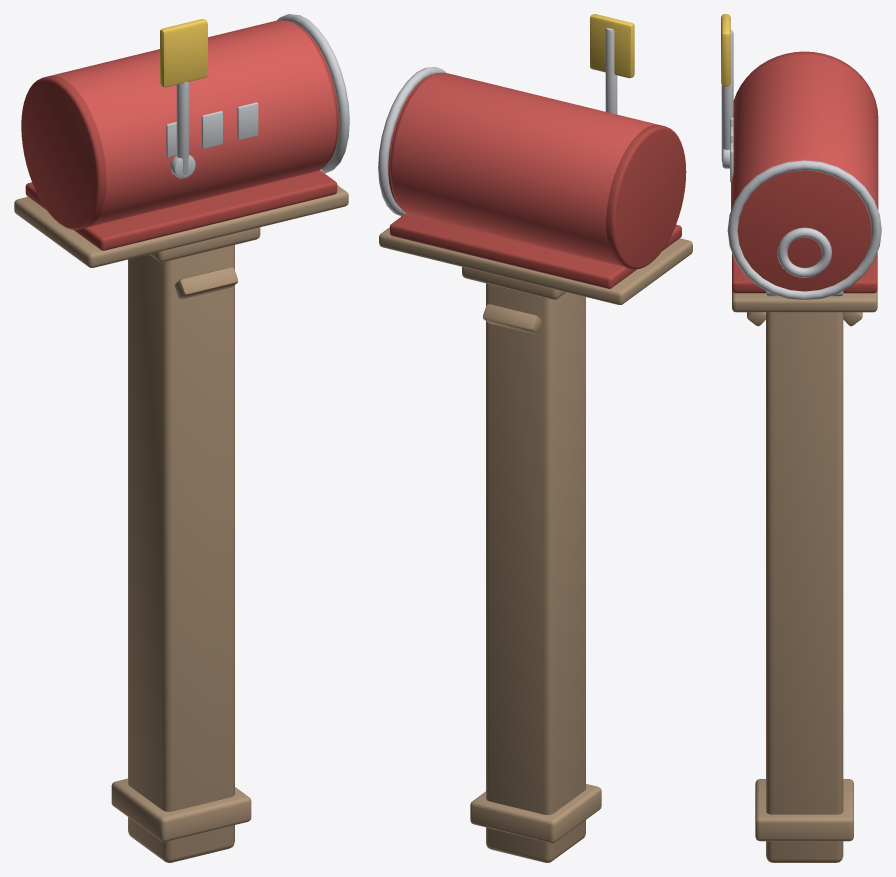
File: mailbox.glb
3 renders of one model, left to right at view 1: azimuth 30°, elevation 25°; view 2: azimuth 150°, elevation 25°; view 3: azimuth 270°, elevation 25°, orthographic. The views are drawn at different scales.
Visible parts, largest first — view 1: Mailbox_Post, Mailbox_Barrel, Mailbox_BackWall, Mailbox_BarrelFloor, Mailbox_MountBoard, Mailbox_PostCollar, Mailbox_Flag, Mailbox_DoorRim, Mailbox_PostCap, Mailbox_Brace_-1, Mailbox_FlagPost, Mailbox_Numeral_2 (+1 smaller); view 2: Mailbox_Post, Mailbox_Barrel, Mailbox_BackWall, Mailbox_BarrelFloor, Mailbox_MountBoard, Mailbox_PostCollar, Mailbox_Flag, Mailbox_DoorRim, Mailbox_PostCap, Mailbox_Brace_1, Mailbox_FlagPost; view 3: Mailbox_Post, Mailbox_Barrel, Mailbox_Door, Mailbox_DoorRim, Mailbox_PostCollar, Mailbox_MountBoard, Mailbox_Handle, Mailbox_BarrelFloor, Mailbox_FlagPost, Mailbox_Flag, Mailbox_BackWall.
Part boxes in pixels (x1,y1,x2,y2): Mailbox_Post: (128,245,234,862); Mailbox_Barrel: (50,20,336,226); Mailbox_BackWall: (21,75,106,229); Mailbox_BarrelFloor: (25,170,337,250); Mailbox_MountBoard: (14,185,348,267); Mailbox_PostCollar: (111,778,251,841); Mailbox_Flag: (160,19,207,87); Mailbox_DoorRim: (277,14,349,173); Mailbox_PostCap: (149,227,260,262); Mailbox_Brace_-1: (175,267,237,299); Mailbox_FlagPost: (176,81,189,173); Mailbox_Numeral_2: (237,102,258,139); Mailbox_Post: (486,283,585,862); Mailbox_Barrel: (390,72,658,265); Mailbox_BackWall: (606,124,686,269); Mailbox_BarrelFloor: (390,213,681,288); Mailbox_MountBoard: (379,227,692,304); Mailbox_PostCollar: (470,784,601,843); Mailbox_Flag: (590,14,634,78); Mailbox_DoorRim: (378,67,446,215); Mailbox_PostCap: (462,267,565,299); Mailbox_Brace_1: (483,304,541,334); Mailbox_FlagPost: (605,28,617,114); Mailbox_Post: (766,312,843,862); Mailbox_Barrel: (731,54,878,210); Mailbox_Door: (737,170,871,291); Mailbox_DoorRim: (727,160,881,299); Mailbox_PostCollar: (755,779,853,841); Mailbox_MountBoard: (732,290,877,312); Mailbox_Handle: (777,227,831,277); Mailbox_BarrelFloor: (732,252,877,293); Mailbox_FlagPost: (721,30,733,161); Mailbox_Flag: (721,14,730,86); Mailbox_BackWall: (733,51,878,117).
Size of the model in its own units: 0.3367 by 1.04 by 0.1875.
